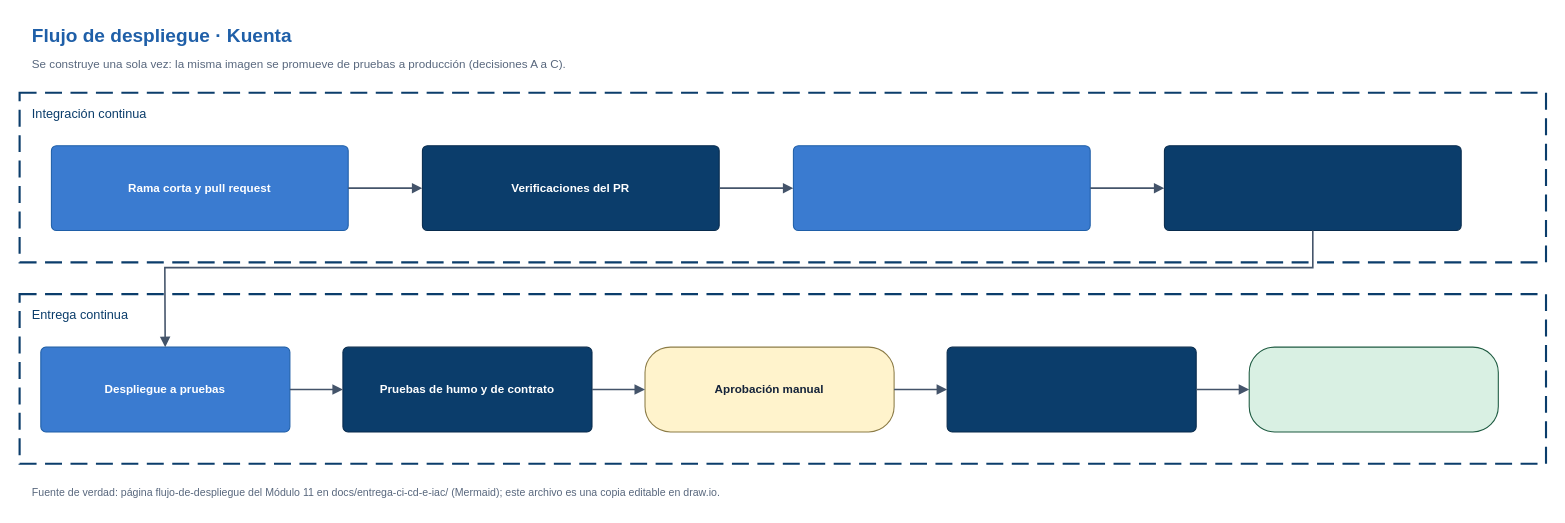
This 1565x523 diagram has some shape labels left out. Each missing label, with the centre of its shape:
Imagen única en ECR con escaneo: pixel 1312 188
Integración a main: pixel 941 188
Observación y reversión: pixel 1373 389
Producción blue/green: pixel 1071 389
